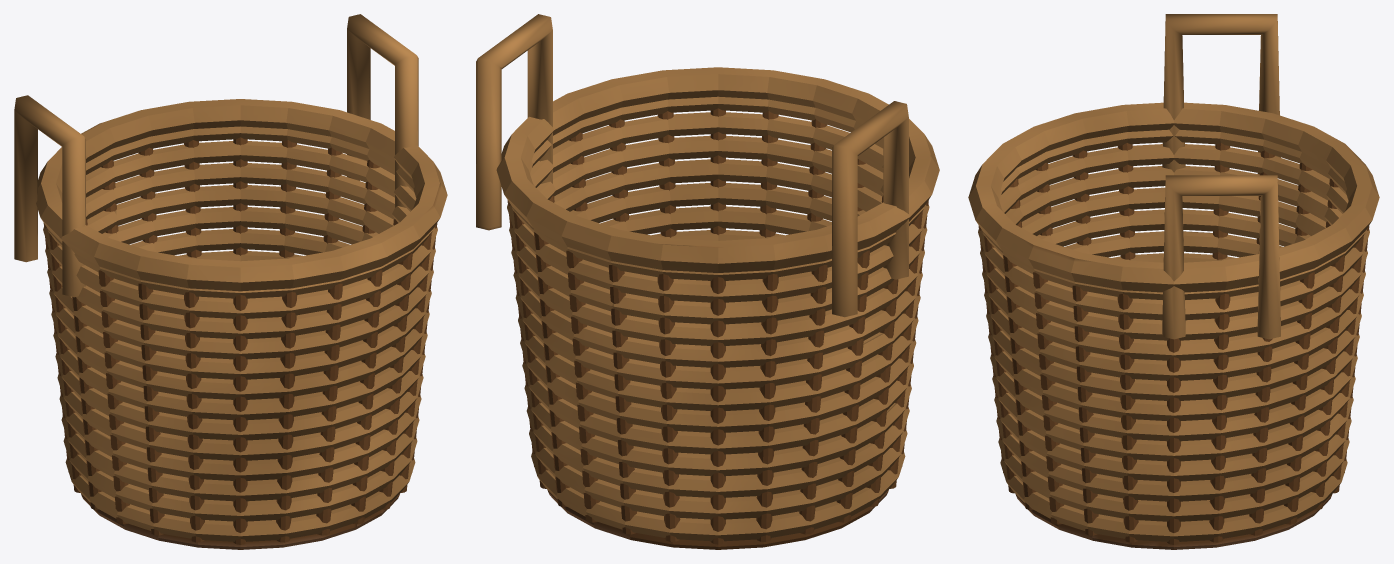
File: 23_Woven_Basket.fbx
3 renders of one model, left to right at view 1: azimuth 30°, elevation 25°; view 2: azimuth 150°, elevation 25°; view 3: azimuth 270°, elevation 25°, orthographic. The views are drawn at different scales.
Parts seen in each view (by area): view 1: 23_Woven_Basket; view 2: 23_Woven_Basket; view 3: 23_Woven_Basket.
Part boxes in pixels (bbox=[...]): 23_Woven_Basket: bbox=[14, 14, 447, 549]; 23_Woven_Basket: bbox=[476, 14, 939, 549]; 23_Woven_Basket: bbox=[968, 14, 1379, 549].
Size of the model in its own units: 60.4 by 62.47 by 60.4.
1 material, 1 textured.
